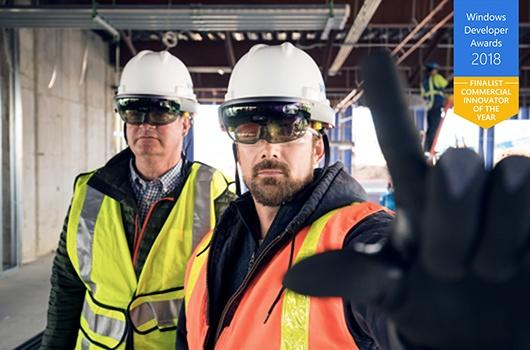helmet: (222, 44, 333, 128), (118, 52, 201, 116)
